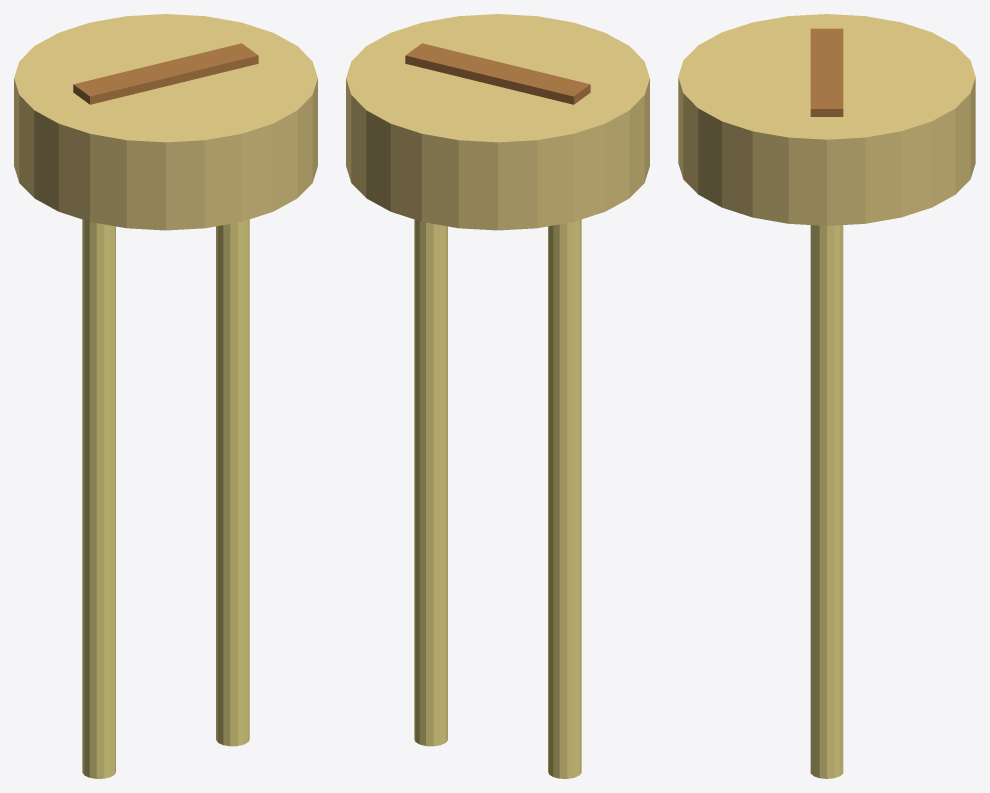
File: ldr-photoresistor.glb
3 views of the same model, side by side, from view 1: azimuth 30°, elevation 25°; view 2: azimuth 150°, elevation 25°; view 3: azimuth 270°, elevation 25° (orthographic). The views are drawn at different scales.
Visible parts, largest first — view 1: ldr-photoresistor_mesh; view 2: ldr-photoresistor_mesh; view 3: ldr-photoresistor_mesh.
Boxes of the visible parts, x1=… form: ldr-photoresistor_mesh: x1=14, y1=14, x2=317, y2=778; ldr-photoresistor_mesh: x1=346, y1=14, x2=649, y2=778; ldr-photoresistor_mesh: x1=678, y1=14, x2=975, y2=778.
Size of the model in its own units: 5 by 12.45 by 5.
